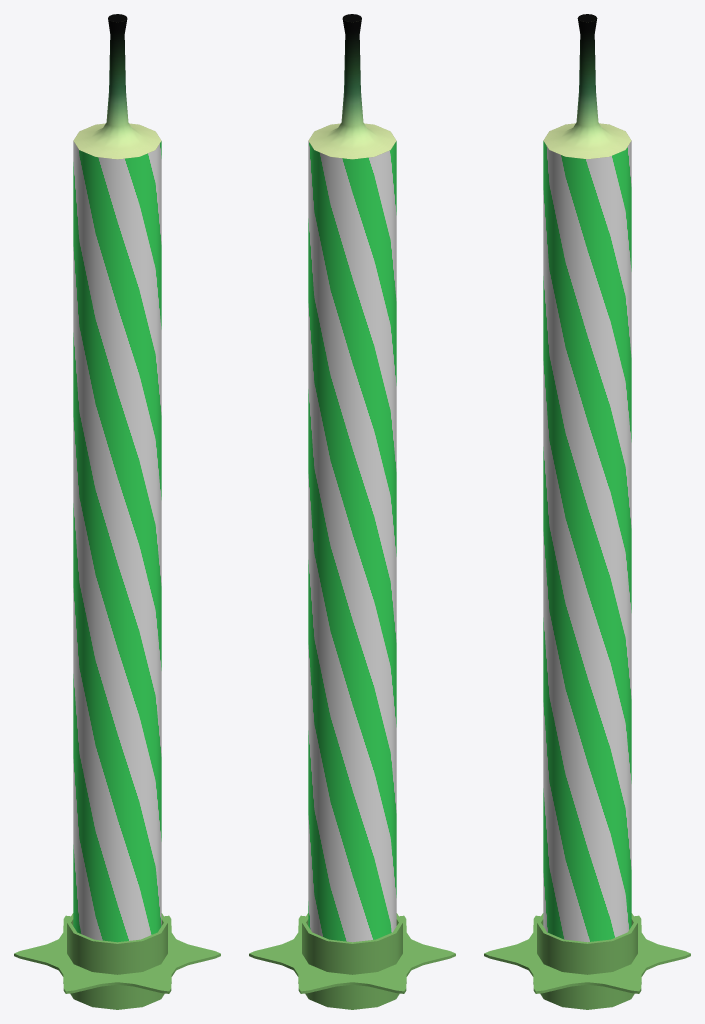
File: Candle_Green.fbx
3 renders of one model, left to right at view 1: azimuth 30°, elevation 25°; view 2: azimuth 150°, elevation 25°; view 3: azimuth 270°, elevation 25°, orthographic.
Visible parts, largest first — view 1: Candle_Green, Candle_Holder_Green; view 2: Candle_Green, Candle_Holder_Green; view 3: Candle_Green, Candle_Holder_Green.
Part boxes in pixels (x1=…): Candle_Green: x1=73, y1=14, x2=161, y2=942; Candle_Holder_Green: x1=14, y1=913, x2=220, y2=1009; Candle_Green: x1=308, y1=14, x2=396, y2=942; Candle_Holder_Green: x1=249, y1=913, x2=455, y2=1009; Candle_Green: x1=543, y1=14, x2=631, y2=942; Candle_Holder_Green: x1=484, y1=913, x2=690, y2=1009.
Bounding box in the file's own units: 1.64 × 9.81 × 1.9.
Materials: 3 (2 with a texture image).
